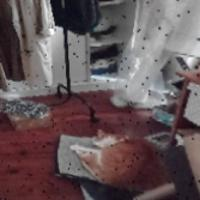asleep: (69, 125, 173, 199)
